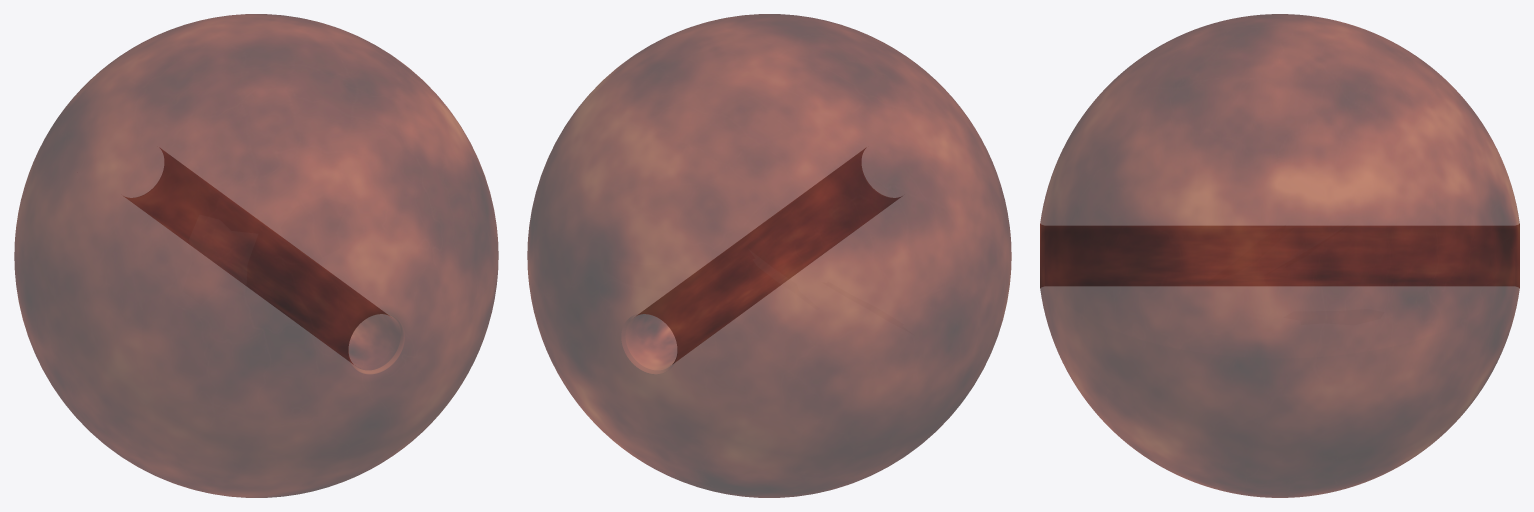
File: hessonite.glb
3 renders of one model, left to right at view 1: azimuth 30°, elevation 25°; view 2: azimuth 150°, elevation 25°; view 3: azimuth 270°, elevation 25°, orthographic.
Parts seen in each view (by area): view 1: hessonite.001; view 2: hessonite.001; view 3: hessonite.001.
Boxes of the visible parts, x1=… form: hessonite.001: x1=14, y1=14, x2=498, y2=497; hessonite.001: x1=527, y1=14, x2=1011, y2=497; hessonite.001: x1=1040, y1=14, x2=1519, y2=497.
Bounding box in the file's own units: 0.008 × 0.008 × 0.00793.
2 materials, 1 textured.
